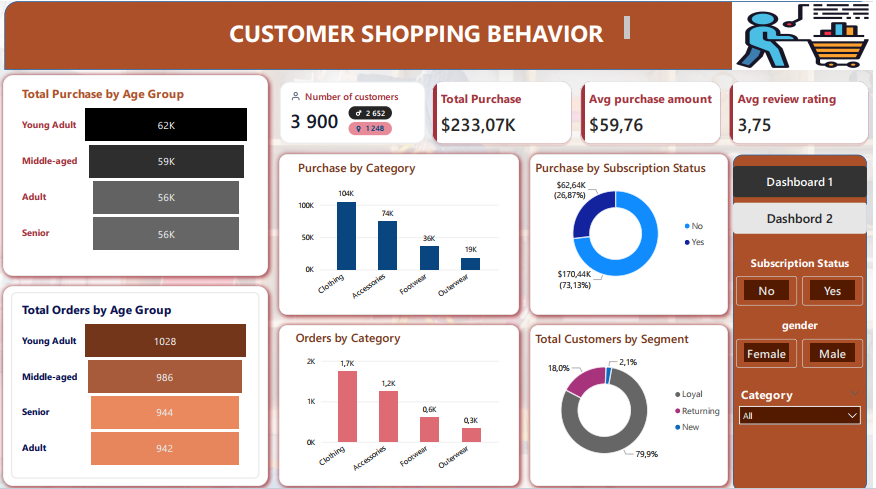

The dashboard page shown, as its layout file describes it:
{"tool":"powerbi","page":{"name":"Dashboard 1 ","canvas":[1390,780],"ordinal":0},"visuals":[{"type":"shape","box":[9.5,0,1380.9,109.4],"z":0},{"type":"shape","box":[1168.4,244.1,212.4,535.9],"z":1000},{"type":"shape","box":[0,109.4,437.6,336],"z":2000},{"type":"shape","box":[437.6,234.6,399.5,272.7],"z":3000},{"type":"shape","box":[437.6,507.3,399.5,272.7],"z":4000},{"type":"shape","box":[0,443.9,437.6,336.1],"z":5000},{"type":"shape","box":[837.1,234.6,331.3,272.7],"z":6000},{"type":"shape","box":[837.1,507.3,331.3,272.7],"z":7000},{"type":"cardVisual","fields":{"Data":["customer_shop.Total Purchase","customer_shop.Avg purchase amount","customer_shop.Avg review rating"]},"box":[686.1,123,703.8,113],"z":8000},{"type":"funnel","title":"Total Purchase by Age Group","fields":{"Category":["customer_shop.age_group"],"Y":["Sum(customer_shop.purchase_amount)"]},"box":[22.2,120.5,394.8,296.5],"z":9000},{"type":"funnel","title":"Total Observations by Age Group","fields":{"Category":["customer_shop.age_group"],"Y":["CountNonNull(customer_shop.customer_id)"]},"box":[20.6,462.9,394.8,296.5],"z":10000},{"type":"clusteredColumnChart","fields":{"Category":["customer_shop.category"],"Y":["Sum(customer_shop.purchase_amount)"]},"box":[461.3,269.5,350.4,236.2],"z":11000},{"type":"clusteredColumnChart","fields":{"Category":["customer_shop.category"],"Y":["CountNonNull(customer_shop.customer_id)"]},"box":[461.3,543.8,350.4,236.2],"z":12000},{"type":"donutChart","fields":{"Category":["customer_shop.subscription_status"],"Y":["customer_shop.Total Purchase"]},"box":[857.7,250.5,290.1,241],"z":13000},{"type":"textbox","box":[367.8,25.4,635.7,58.7],"z":14000},{"type":"image","box":[1168.4,1.6,222,107.8],"z":15000},{"type":"advancedSlicerVisual","fields":{"Values":["customer_shop.subscription_status"]},"box":[1173.2,404.3,202.9,79.3],"z":16000},{"type":"advancedSlicerVisual","fields":{"Values":["customer_shop.gender"]},"box":[1173.2,504.1,202.9,79.3],"z":17000},{"type":"slicer","fields":{"Values":["customer_shop.category"]},"box":[1173.2,612,202.9,77.7],"z":18000},{"type":"cardVisual","fields":{"Data":["customer_shop.Title 4"]},"box":[464.5,234.6,345.6,55.5],"z":19000},{"type":"cardVisual","fields":{"Data":["customer_shop.Title 5"]},"box":[461.3,505.7,345.6,55.5],"z":20000},{"type":"cardVisual","fields":{"Data":["customer_shop.Title 6"]},"box":[841.8,234.6,345.6,55.5],"z":21000},{"type":"pageNavigator","box":[1168.4,261.6,212.4,109.4],"z":22000},{"type":"htmlContent443BE3AD55E043BF878BED274D3A6865","fields":{"content":["customer_shop.HTML KPI Customers"]},"box":[431.6,113.9,263.3,148.1],"z":23000},{"type":"donutChart","fields":{"Category":["customer_shop.customer_segment"],"Y":["customer_shop.Number of customers"]},"box":[837.1,531.1,336.1,241],"z":24000},{"type":"cardVisual","fields":{"Data":["customer_shop.Title 2"]},"box":[841.8,508.9,345.6,50.7],"z":25000}]}

Visuals, with their boxes in screenshot pixels (x1, y1, x2, y2), scaled from the page's 1390x780 canvas onto the 876x489 screenshot:
shape: [left=6, top=0, right=875, bottom=69]
shape: [left=736, top=153, right=870, bottom=488]
shape: [left=0, top=69, right=276, bottom=279]
shape: [left=276, top=147, right=528, bottom=318]
shape: [left=276, top=318, right=528, bottom=488]
shape: [left=0, top=278, right=276, bottom=488]
shape: [left=528, top=147, right=736, bottom=318]
shape: [left=528, top=318, right=736, bottom=488]
cardVisual - customer_shop.Total Purchase x customer_shop.Avg purchase amount: [left=432, top=77, right=875, bottom=148]
"Total Purchase by Age Group" funnel: [left=14, top=76, right=263, bottom=261]
"Total Observations by Age Group" funnel: [left=13, top=290, right=262, bottom=476]
clusteredColumnChart - customer_shop.category x Sum(customer_shop.purchase_amount): [left=291, top=169, right=512, bottom=317]
clusteredColumnChart - customer_shop.category x CountNonNull(customer_shop.customer_id): [left=291, top=341, right=512, bottom=488]
donutChart - customer_shop.subscription_status x customer_shop.Total Purchase: [left=541, top=157, right=723, bottom=308]
textbox: [left=232, top=16, right=632, bottom=53]
image: [left=736, top=1, right=875, bottom=69]
advancedSlicerVisual - customer_shop.subscription_status: [left=739, top=253, right=867, bottom=303]
advancedSlicerVisual - customer_shop.gender: [left=739, top=316, right=867, bottom=366]
slicer - customer_shop.category: [left=739, top=384, right=867, bottom=432]
cardVisual - customer_shop.Title 4: [left=293, top=147, right=511, bottom=182]
cardVisual - customer_shop.Title 5: [left=291, top=317, right=509, bottom=352]
cardVisual - customer_shop.Title 6: [left=531, top=147, right=748, bottom=182]
pageNavigator: [left=736, top=164, right=870, bottom=233]
htmlContent443BE3AD55E043BF878BED274D3A6865 - customer_shop.HTML KPI Customers: [left=272, top=71, right=438, bottom=164]
donutChart - customer_shop.customer_segment x customer_shop.Number of customers: [left=528, top=333, right=739, bottom=484]
cardVisual - customer_shop.Title 2: [left=531, top=319, right=748, bottom=351]
